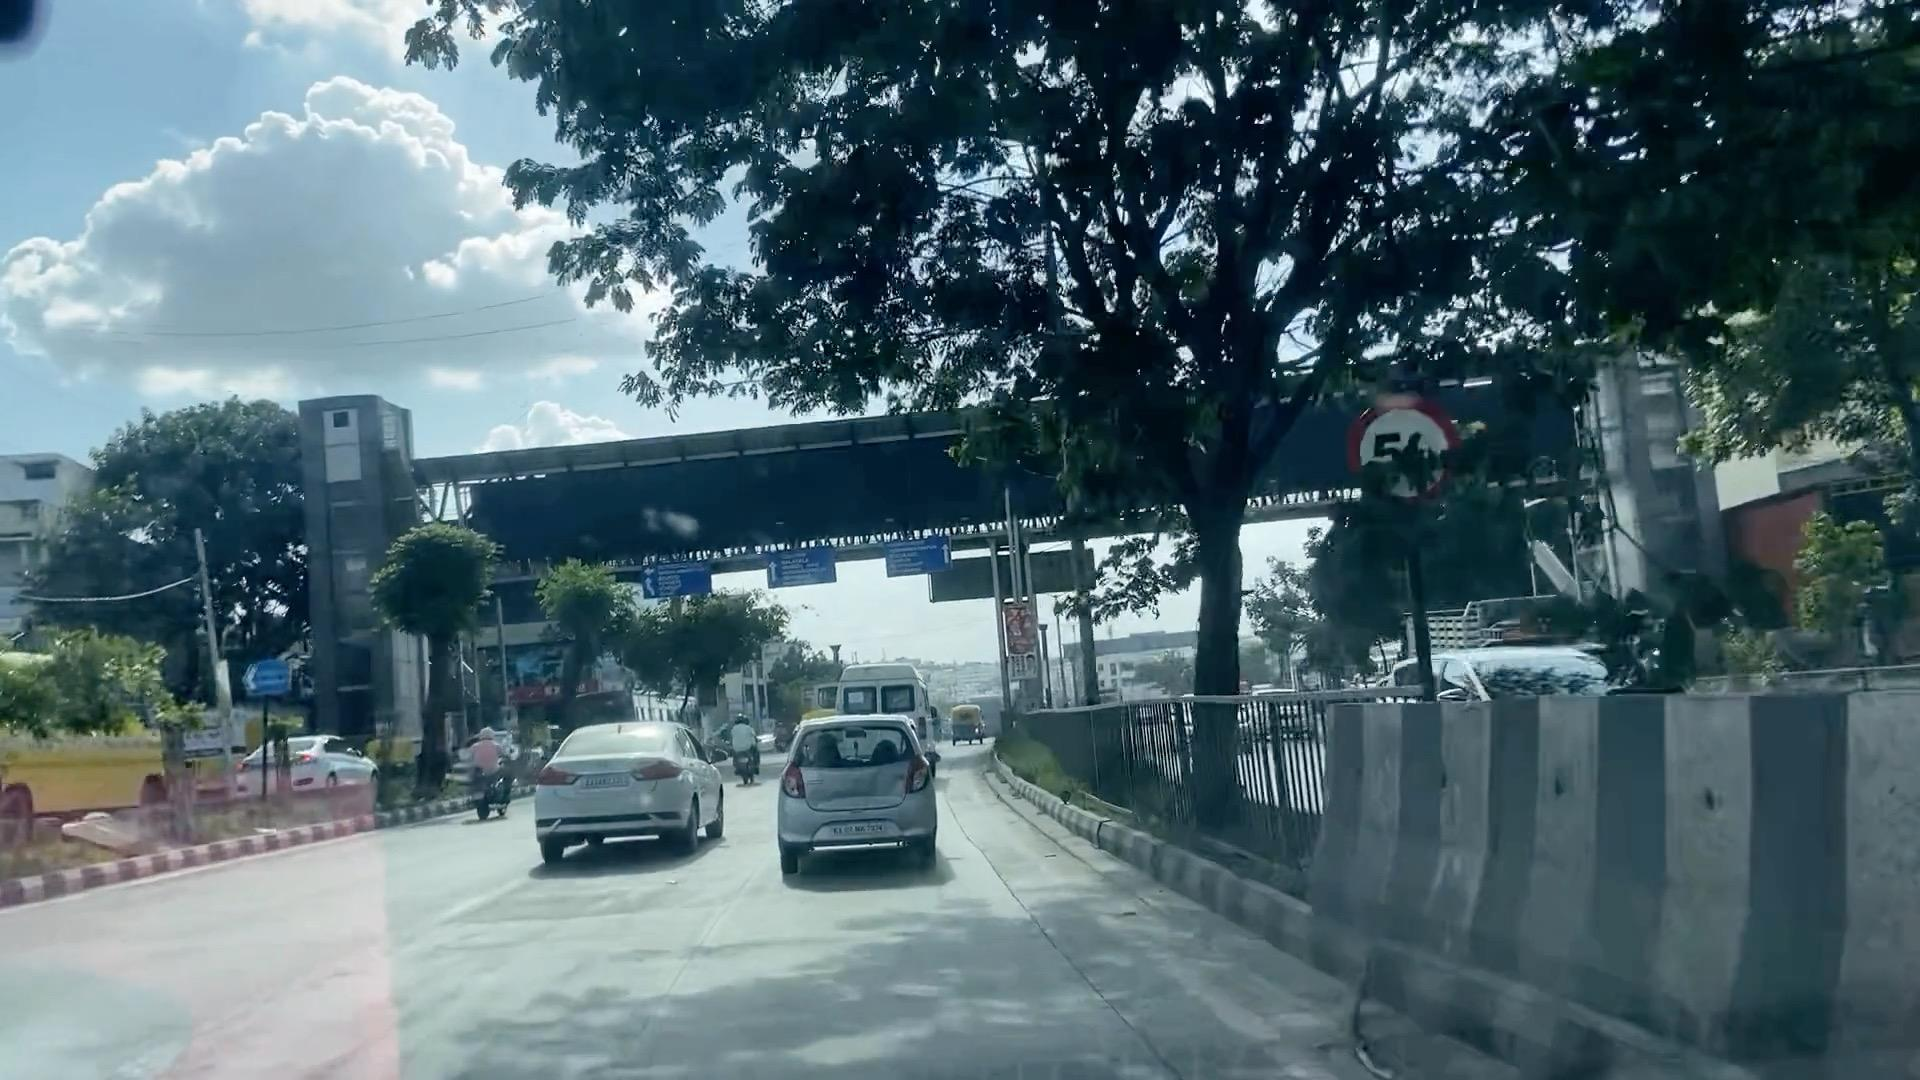LMV: (781, 712, 932, 860), (535, 737, 717, 857)
